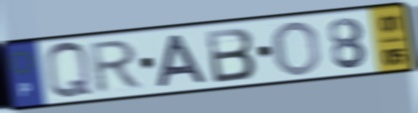8: (327, 16, 369, 71)
A: (155, 32, 211, 89)
B: (203, 26, 258, 85)
O: (272, 19, 323, 78)
Q: (43, 40, 97, 103)
R: (89, 37, 146, 97)
